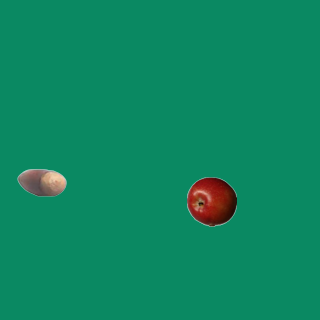Apple Braeburn: (186, 176, 236, 226)
Hazelnut: (16, 157, 66, 207)
